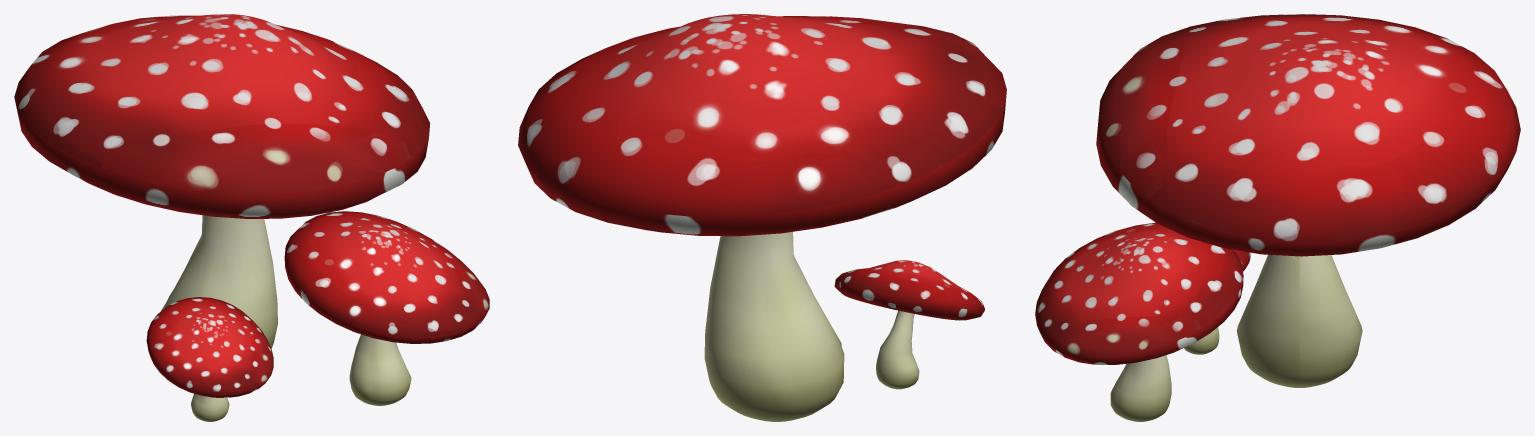
Rendered from mushrooms.glb.
3 renders of one model, left to right at view 1: azimuth 30°, elevation 25°; view 2: azimuth 150°, elevation 25°; view 3: azimuth 270°, elevation 25°, orthographic. The views are drawn at different scales.
Parts seen in each view (by area): view 1: Object_2; view 2: Object_2; view 3: Object_2.
Boxes of the visible parts, box(x1,y1,x2,y2) form: Object_2: box(14, 14, 489, 421); Object_2: box(518, 14, 1006, 421); Object_2: box(1035, 14, 1520, 421).
Size of the model in its own units: 57.2 by 50.21 by 65.6.
1 material, 1 textured.
